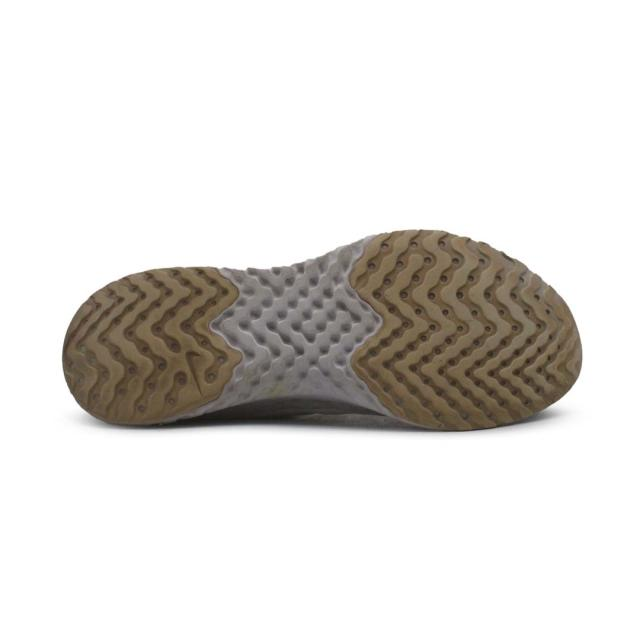outersole: (61, 227, 581, 430)
